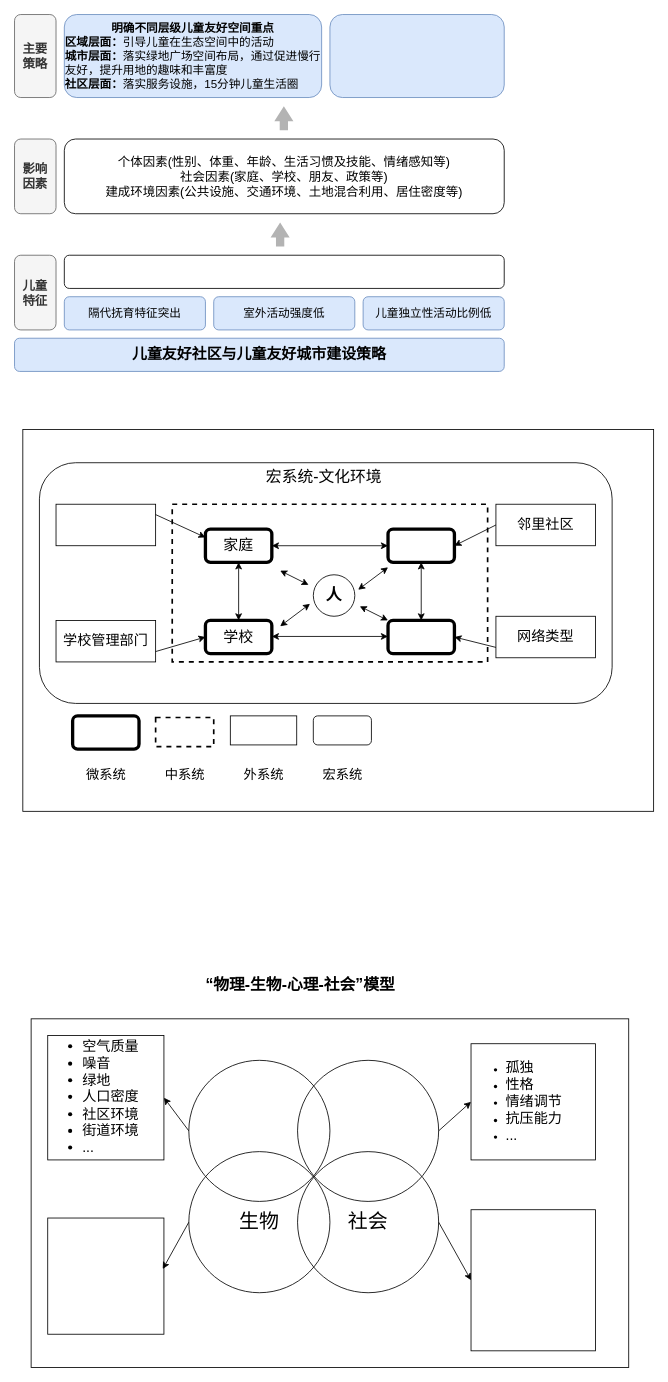
Some shapes in this 668 by 1382 pixel diagram are drawn without their labels. The shapes that lost their labels are listed below. From the top down, each one's centre as x and y in pixels, then its label:
(416,56): 建设儿童友好空间场所 关爱成长的公共服务设施 自然有趣的公共游憩场地 安全友好的交通出行环境
(283,271): 游戏冒险、渴望自然、模仿学习、社会交往的需求
(105,524): 父母工作单位
(421,545): 同伴
(421,636): 网络
(259,1130): 物理
(368,1130): 心理
(105,1275): 身体疾病 遗传倾向 性别 内分泌水平 药物 ...
(533,1280): 社会支持 家庭养育方式 人际交往 健康行为 归属感 价值感 ...
